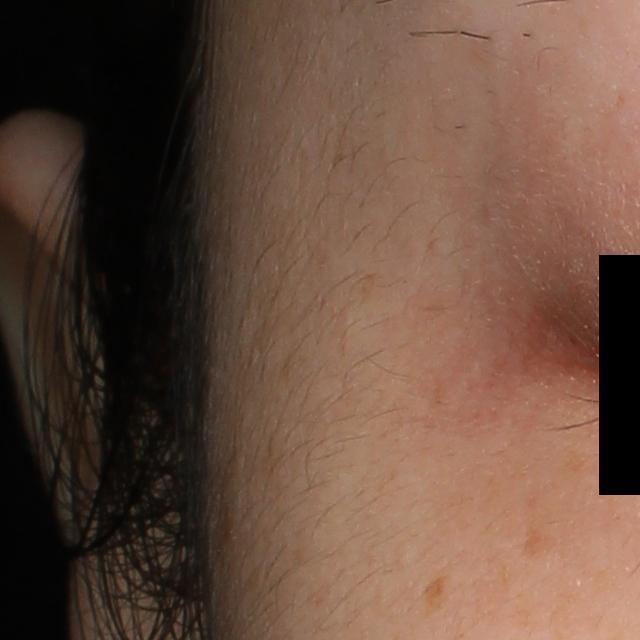melasma: (522, 492, 587, 567), (422, 568, 446, 618)
